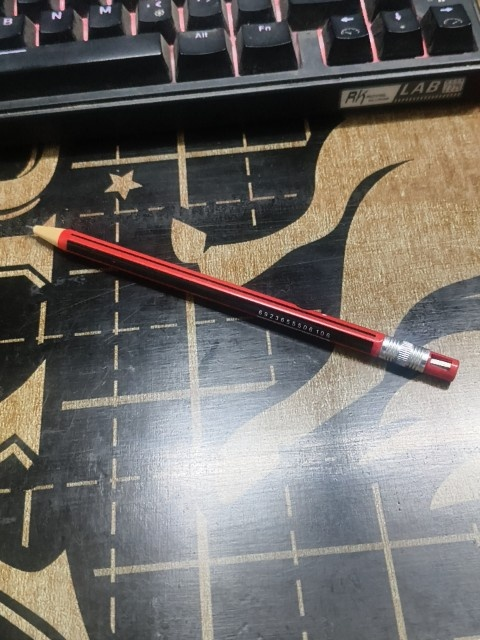pen: (34, 221, 464, 385)
